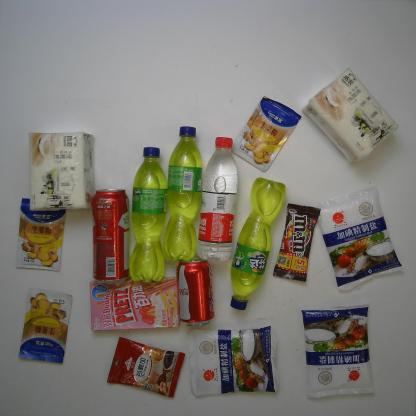Alcohol: (90, 188, 131, 286)
Chocolate: (272, 202, 322, 283)
Dessert: (89, 275, 182, 331)
Drink: (230, 176, 287, 310), (162, 126, 204, 262), (128, 146, 168, 284), (196, 136, 239, 262), (175, 256, 216, 327)
Instant Drink: (106, 336, 186, 399)
Seasoner: (314, 186, 404, 292), (301, 303, 376, 399), (187, 322, 279, 398), (230, 95, 301, 172), (17, 288, 73, 364), (15, 198, 66, 272)
Tissue: (301, 67, 399, 163), (27, 130, 96, 212)
